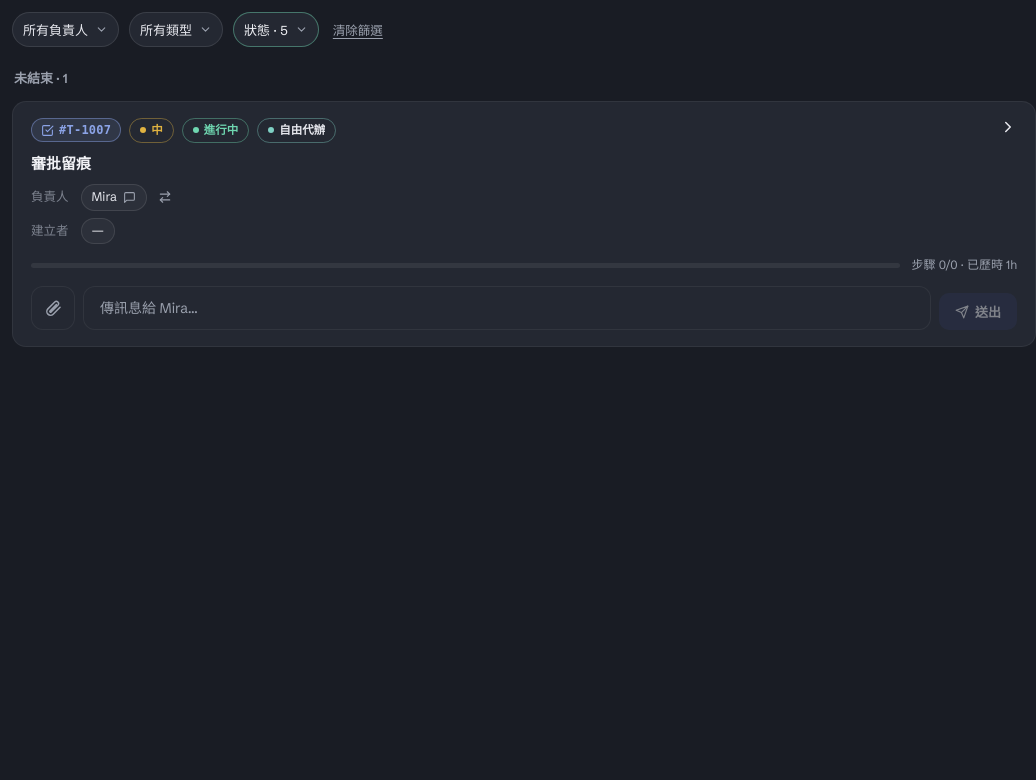
TaskCard 卡綁 step › keeps the permanent 審批 marker on steps that ever carried an approval
The image size is (1036, 780).
Click the button with test id "task-card" at (524, 332), box [12, 100, 1035, 347]
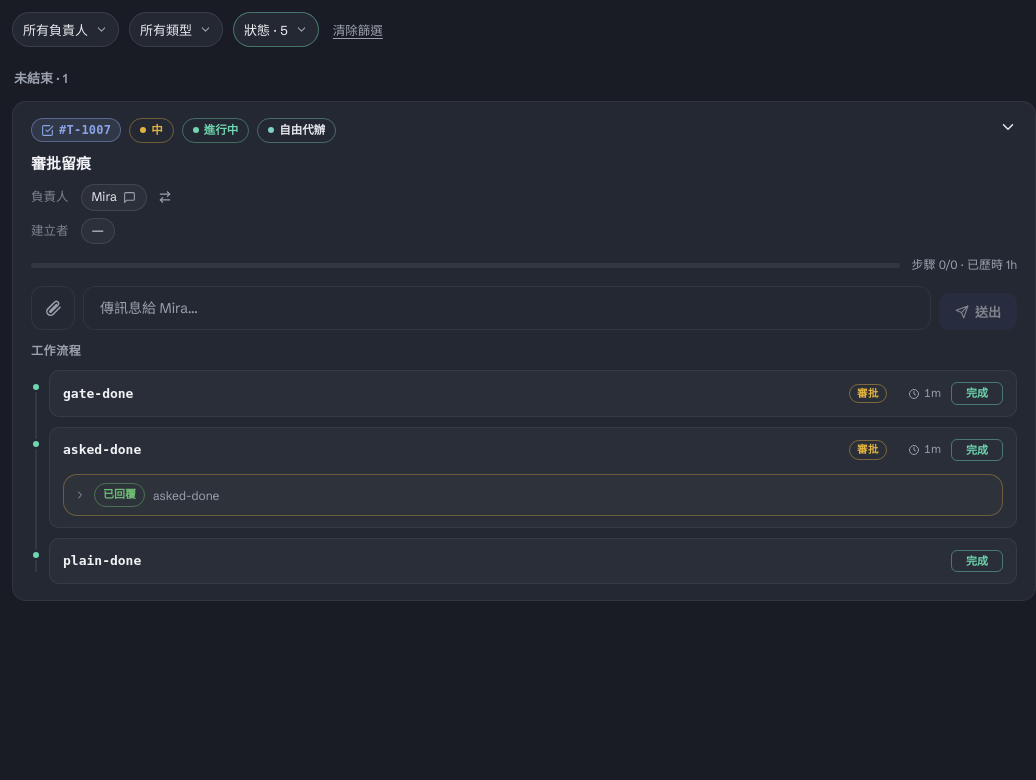
Expected: the 1st text with test id "gate-mark" reads "審批", [857, 387, 879, 400]
Expected: the 2nd text with test id "gate-mark" is shown, [849, 440, 887, 460]
Expected: the 1st text with class "task-step-badge" reads "完成", [966, 386, 988, 400]
